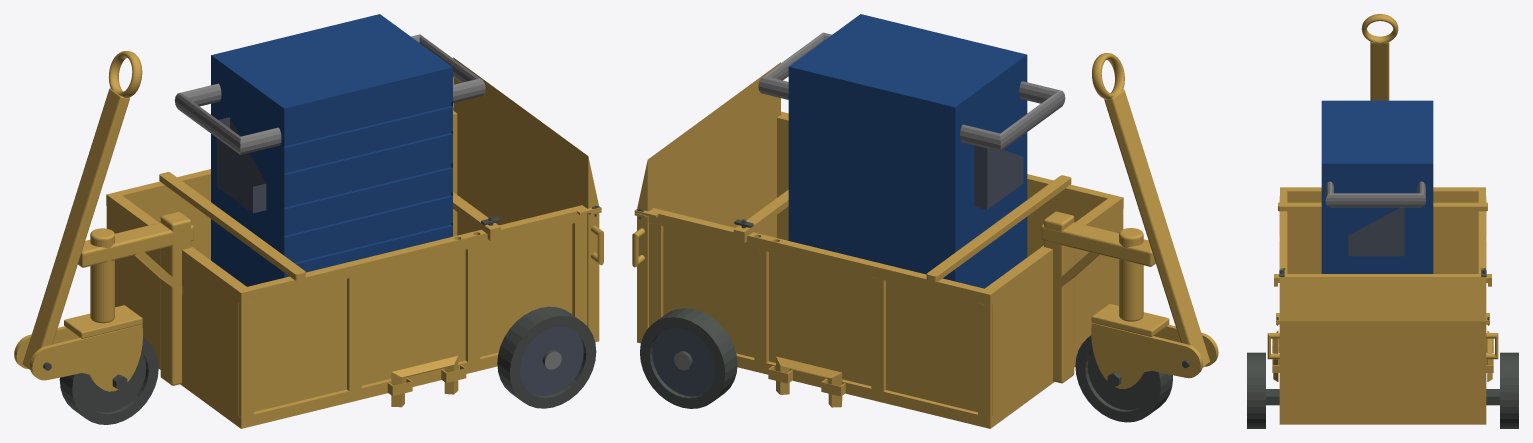
The model's file is car.glb.
The picture shows the model from 3 angles, left to right: view 1: azimuth 30°, elevation 25°; view 2: azimuth 150°, elevation 25°; view 3: azimuth 270°, elevation 25°; orthographic projection. The views are drawn at different scales.
Visible parts, largest first — view 1: 柱体.012, 立方体.010, 立方体.004, 立方体.008, 立方体.007, 立方体.009, 立方体.003, 圆环, 柱体.001, 立方体.001, 立方体.005, 立方体.002 (+8 smaller); view 2: 柱体.012, 立方体.010, 立方体.004, 立方体.008, 立方体.007, 立方体.009, 立方体.003, 圆环.002, 柱体.001, 立方体.001, 立方体.002, 立方体.005 (+7 smaller); view 3: 立方体.004, 柱体.012, 立方体.008, 立方体.007, 立方体.010, 立方体.003, 立方体.005, 立方体.006, 环体, 环体.001, 平面.002, 立方体.014.
Part boxes in pixels (x1=…): 柱体.012: x1=174, y1=14, x2=485, y2=286; 立方体.010: x1=106, y1=110, x2=587, y2=428; 立方体.004: x1=453, y1=57, x2=599, y2=342; 立方体.008: x1=111, y1=195, x2=246, y2=424; 立方体.007: x1=497, y1=306, x2=596, y2=408; 立方体.009: x1=106, y1=206, x2=587, y2=417; 立方体.003: x1=22, y1=88, x2=129, y2=369; 圆环: x1=30, y1=324, x2=142, y2=391; 柱体.001: x1=59, y1=337, x2=158, y2=424; 立方体.001: x1=160, y1=211, x2=191, y2=385; 立方体.005: x1=159, y1=172, x2=305, y2=280; 立方体.002: x1=78, y1=222, x2=193, y2=267; 柱体.012: x1=758, y1=14, x2=1065, y2=288; 立方体.010: x1=648, y1=114, x2=1123, y2=428; 立方体.004: x1=637, y1=62, x2=780, y2=343; 立方体.008: x1=985, y1=198, x2=1118, y2=424; 立方体.007: x1=640, y1=308, x2=737, y2=408; 立方体.009: x1=649, y1=209, x2=1123, y2=417; 立方体.003: x1=1104, y1=89, x2=1210, y2=367; 圆环.002: x1=1091, y1=322, x2=1202, y2=389; 柱体.001: x1=1075, y1=335, x2=1172, y2=422; 立方体.001: x1=1044, y1=211, x2=1074, y2=383; 立方体.002: x1=1041, y1=222, x2=1155, y2=266; 立方体.005: x1=926, y1=175, x2=1071, y2=282; 立方体.004: x1=1279, y1=277, x2=1486, y2=424; 柱体.012: x1=1321, y1=100, x2=1433, y2=273; 立方体.008: x1=1287, y1=187, x2=1478, y2=273; 立方体.007: x1=1247, y1=352, x2=1518, y2=428; 立方体.010: x1=1280, y1=187, x2=1485, y2=273; 立方体.003: x1=1370, y1=41, x2=1389, y2=100; 立方体.005: x1=1278, y1=202, x2=1487, y2=211; 立方体.006: x1=1274, y1=274, x2=1491, y2=286; 环体: x1=1361, y1=14, x2=1398, y2=42; 环体.001: x1=1267, y1=333, x2=1498, y2=359; 平面.002: x1=1273, y1=330, x2=1492, y2=381; 立方体.014: x1=1272, y1=338, x2=1493, y2=372.
Bounding box in the file's own units: 2.36 × 1.65 × 1.42.
